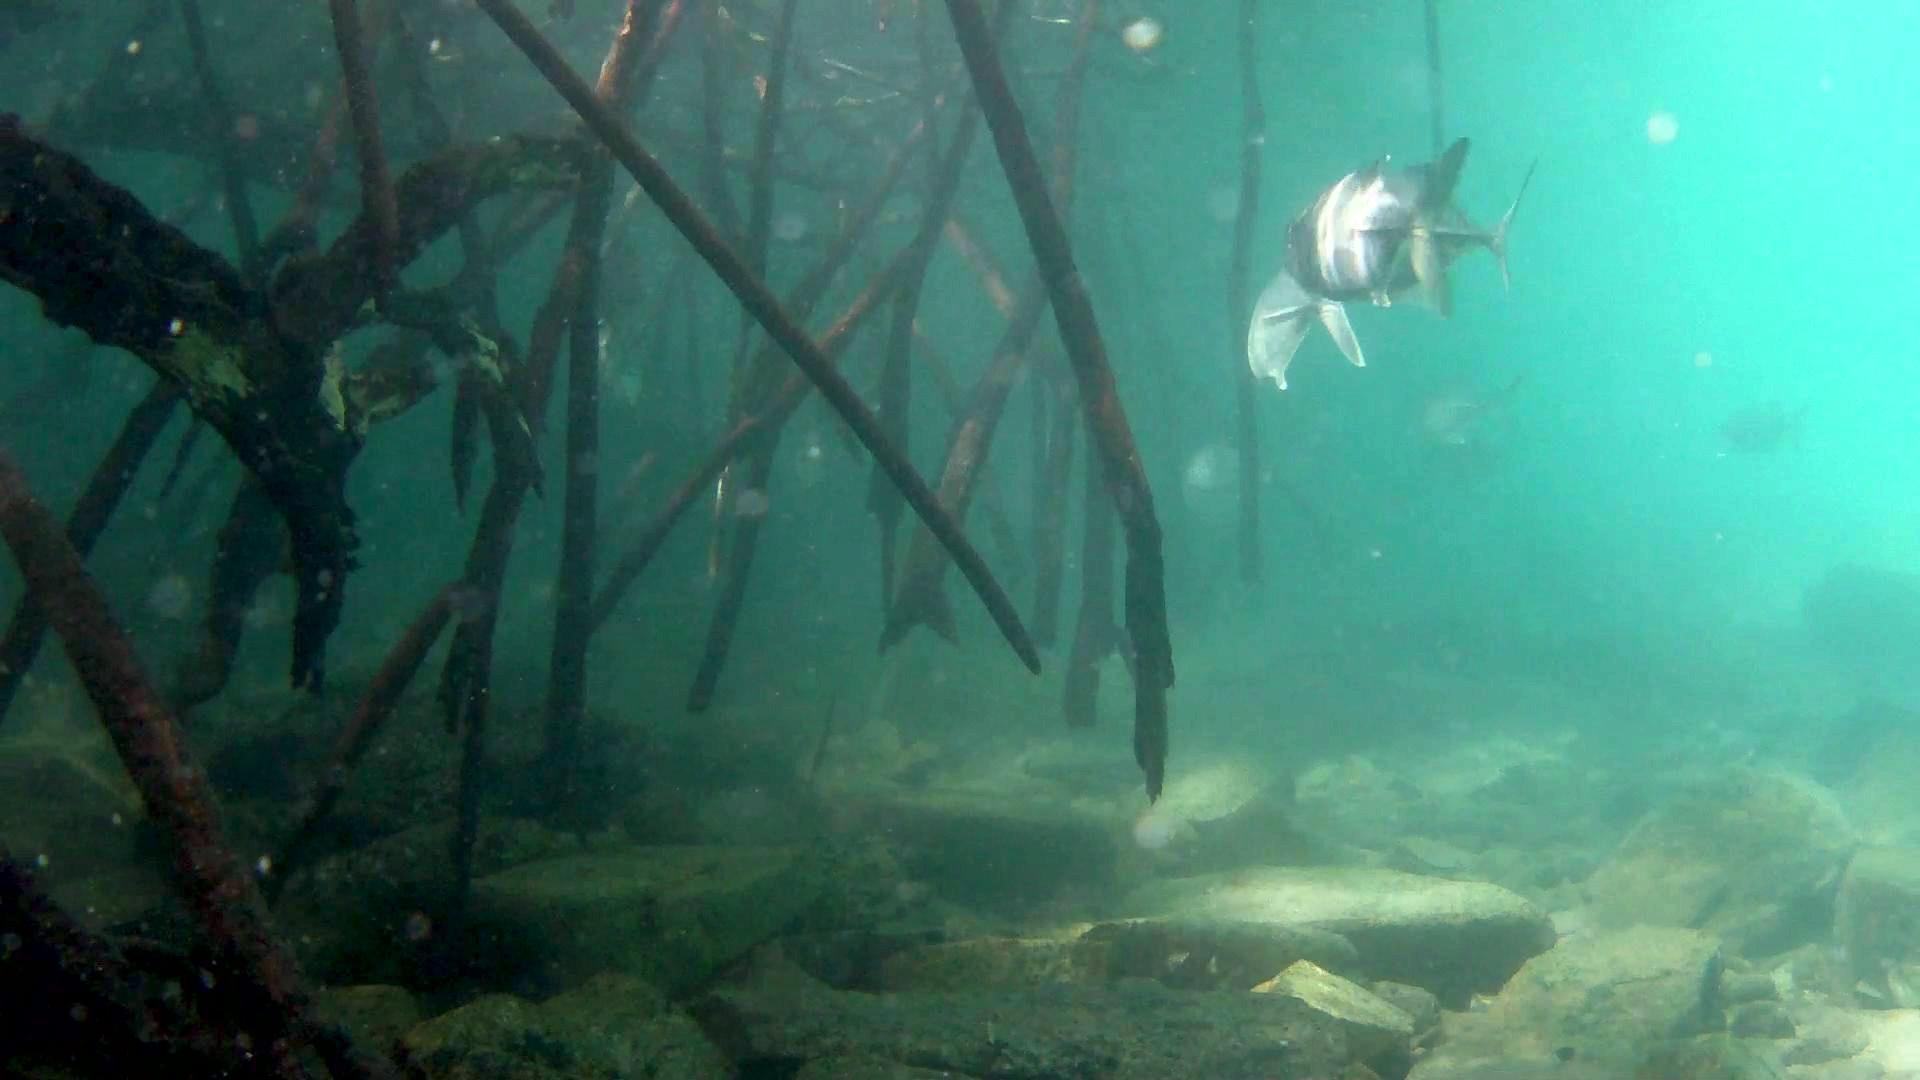caranx: (1275, 126, 1473, 329)
